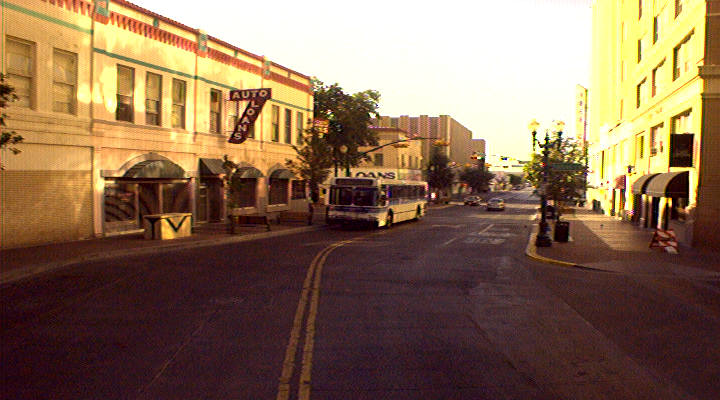Ramp: (574, 251, 716, 283)
